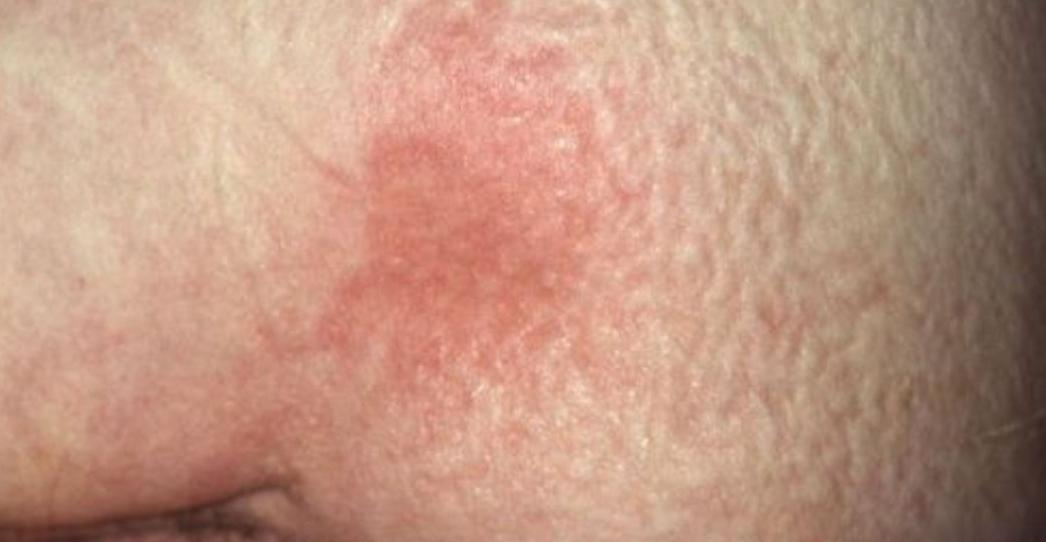Stage3: (299, 11, 684, 391)
